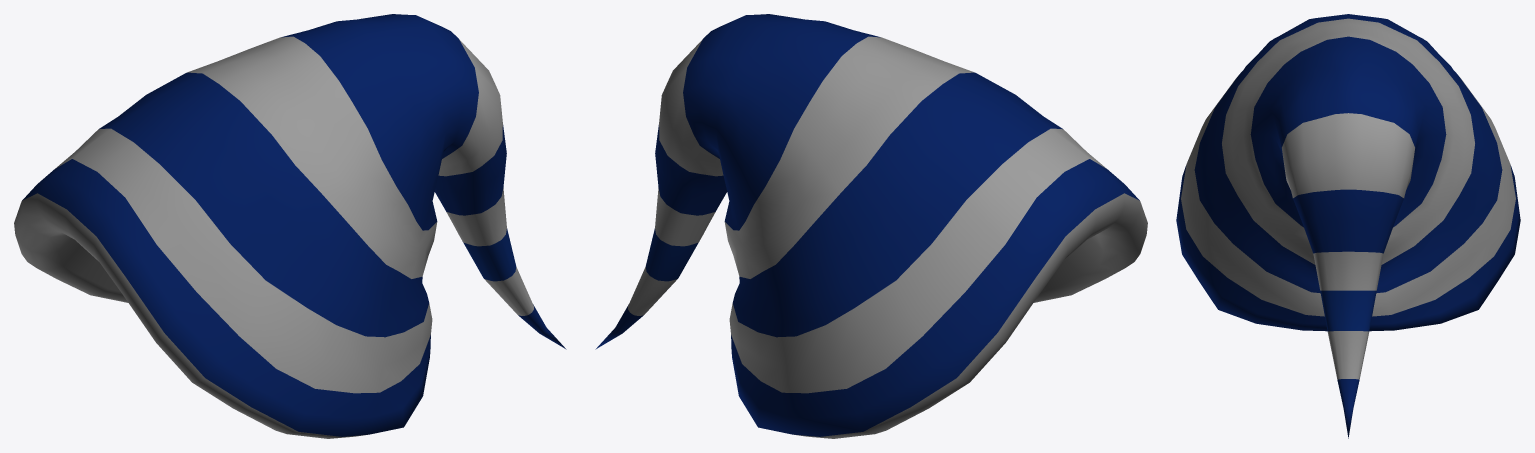
The model's file is PajamaHat.fbx.
The picture shows the model from 3 angles, left to right: view 1: azimuth 30°, elevation 25°; view 2: azimuth 150°, elevation 25°; view 3: azimuth 270°, elevation 25°; orthographic projection. The views are drawn at different scales.
Parts seen in each view (by area): view 1: PajamaHat; view 2: PajamaHat; view 3: PajamaHat.
Part boxes in pixels (x1,y1,x2,y2): PajamaHat: (14, 14, 566, 438); PajamaHat: (595, 14, 1147, 438); PajamaHat: (1176, 14, 1520, 438).
Size of the model in its own units: 61.89 by 44.24 by 45.57.
